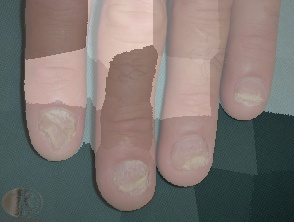Nail_psoriasis: (221, 52, 280, 125), (31, 95, 86, 163), (163, 116, 218, 181), (106, 151, 154, 206)
